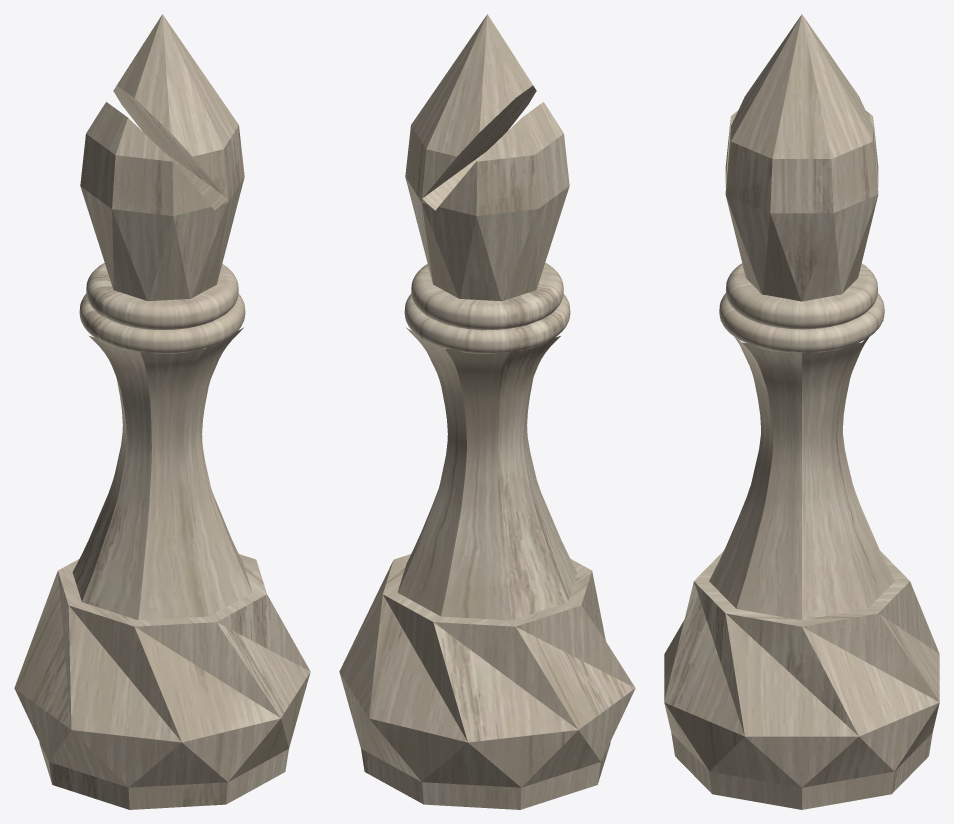
File: lithoxyl_bishop_white.glb
The picture shows the model from 3 angles, left to right: view 1: azimuth 30°, elevation 25°; view 2: azimuth 150°, elevation 25°; view 3: azimuth 270°, elevation 25°; orthographic projection.
Visible parts, largest first — view 1: Lithoxyl_Bishop_Ivory; view 2: Lithoxyl_Bishop_Ivory; view 3: Lithoxyl_Bishop_Ivory.
Part boxes in pixels (bbox=[...]): Lithoxyl_Bishop_Ivory: bbox=[14, 14, 310, 809]; Lithoxyl_Bishop_Ivory: bbox=[339, 14, 635, 809]; Lithoxyl_Bishop_Ivory: bbox=[664, 14, 939, 809].
Size of the model in its own units: 0.0252 by 0.075 by 0.0252.
1 material, 1 textured.
